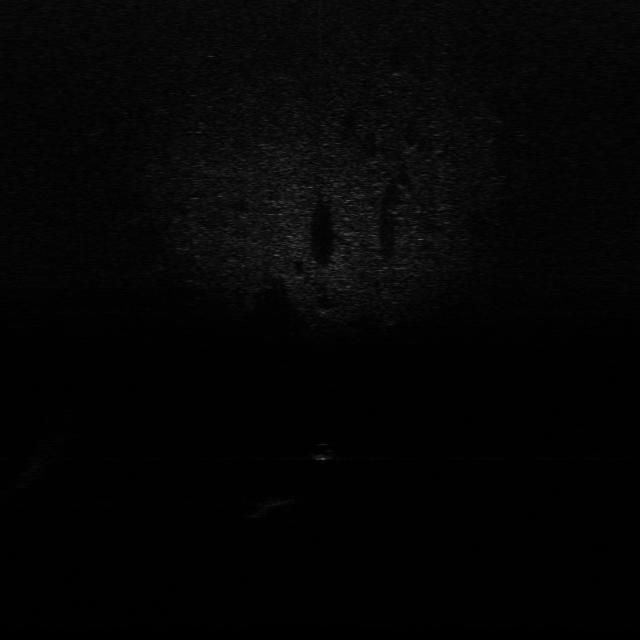ball: (301, 441, 338, 464)
square cage: (244, 494, 298, 510)
tyre: (376, 288, 403, 326)
